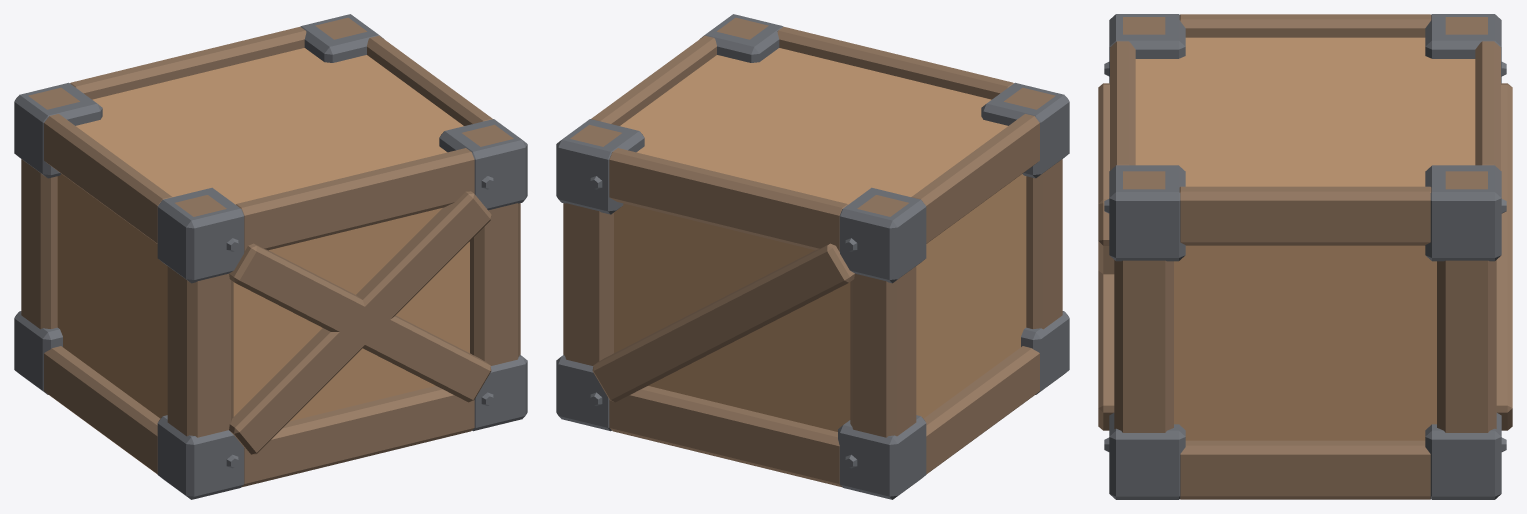
Rendered from Garage_Crate_Small.glb.
3 renders of one model, left to right at view 1: azimuth 30°, elevation 25°; view 2: azimuth 150°, elevation 25°; view 3: azimuth 270°, elevation 25°, orthographic. The views are drawn at different scales.
Visible parts, largest first — view 1: Garage_Crate_Small; view 2: Garage_Crate_Small; view 3: Garage_Crate_Small.
Part boxes in pixels (x1=…): Garage_Crate_Small: x1=14, y1=14, x2=527, y2=499; Garage_Crate_Small: x1=556, y1=14, x2=1069, y2=499; Garage_Crate_Small: x1=1098, y1=14, x2=1512, y2=499.
Bounding box in the file's own units: 0.512 × 0.4 × 0.488.
